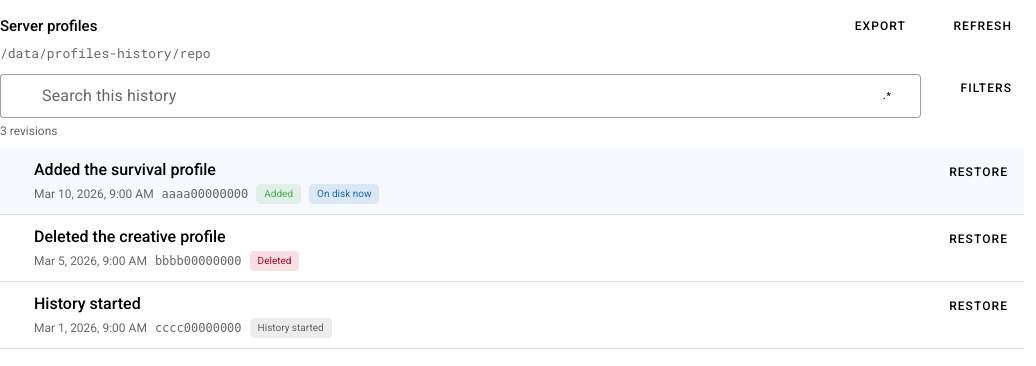
it: the search bar carries the regex builder › filters by plain text by default
Type "survival" into the search field labelled "Search this history".
click(428, 94); type("survival")  # box top-left (36, 74), bottom-right (821, 114)
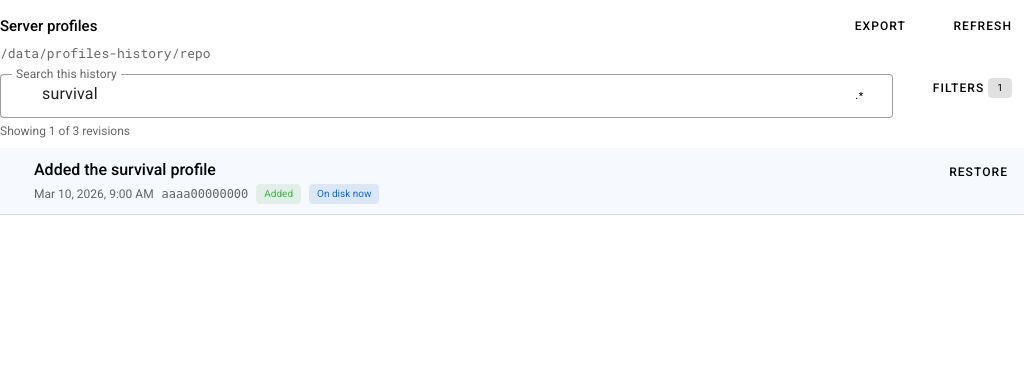
Expected: the text "Added the survival profile" is shown, top-left (34, 160), bottom-right (216, 178)
Expected: the text "Deleted the creative profile" is gone
